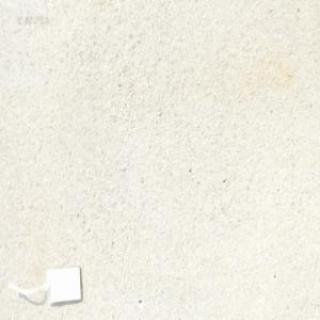LuggageTagtrack_idkeyframe: (16, 259, 82, 304)
